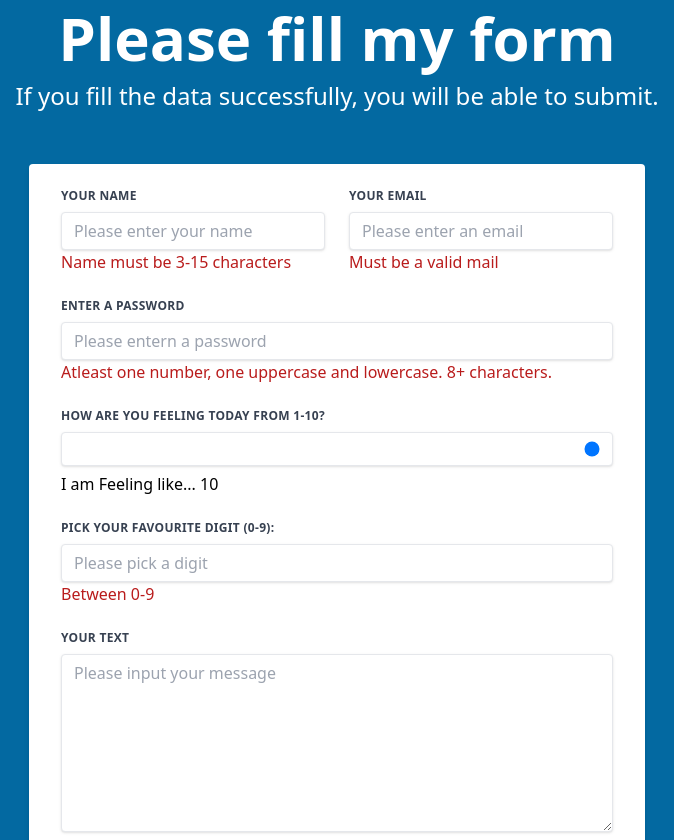
Test: check if we insert valid name, the error message is not visible
Step 1. Type "John Smith" into the field with test id "name_input_test" → (193, 231), box [61,212,325,250]
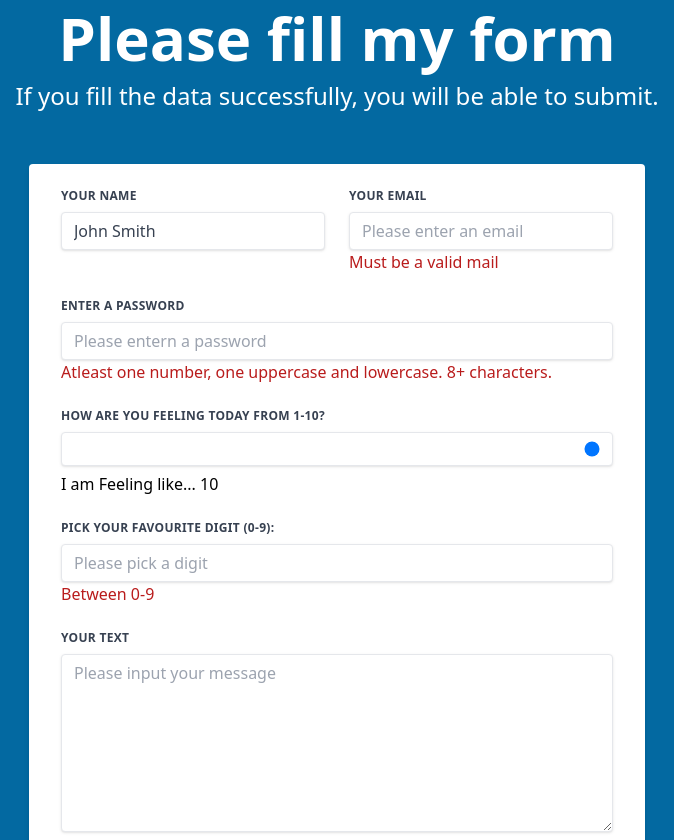
Expected: the text with test id "name_validation_test" is gone
